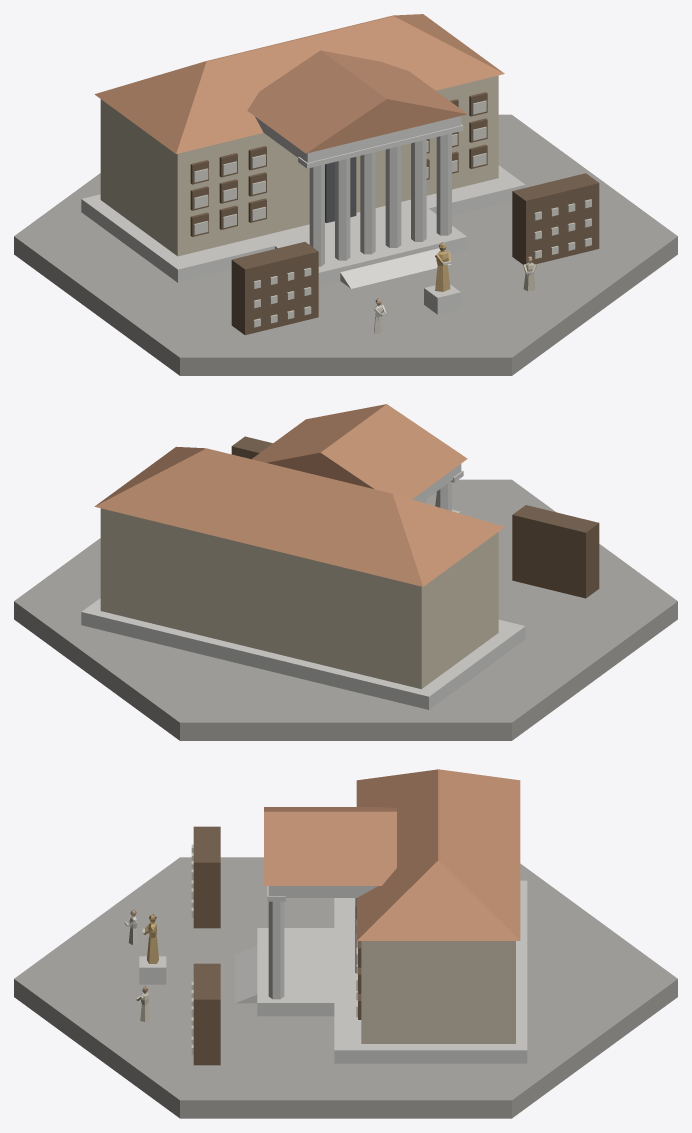
File: great-library.glb
The picture shows the model from 3 angles, top to bottom: view 1: azimuth 30°, elevation 25°; view 2: azimuth 150°, elevation 25°; view 3: azimuth 270°, elevation 25°; orthographic projection.
Parts seen in each view (by area): view 1: LOD0; view 2: LOD0; view 3: LOD0.
Boxes of the visible parts, x1,y1,x2,y2 form: LOD0: (14,14,677,375); LOD0: (14,404,677,740); LOD0: (14,769,677,1118).
Size of what is drawn, in the model's own units: 1.49 by 0.53 by 1.72.
